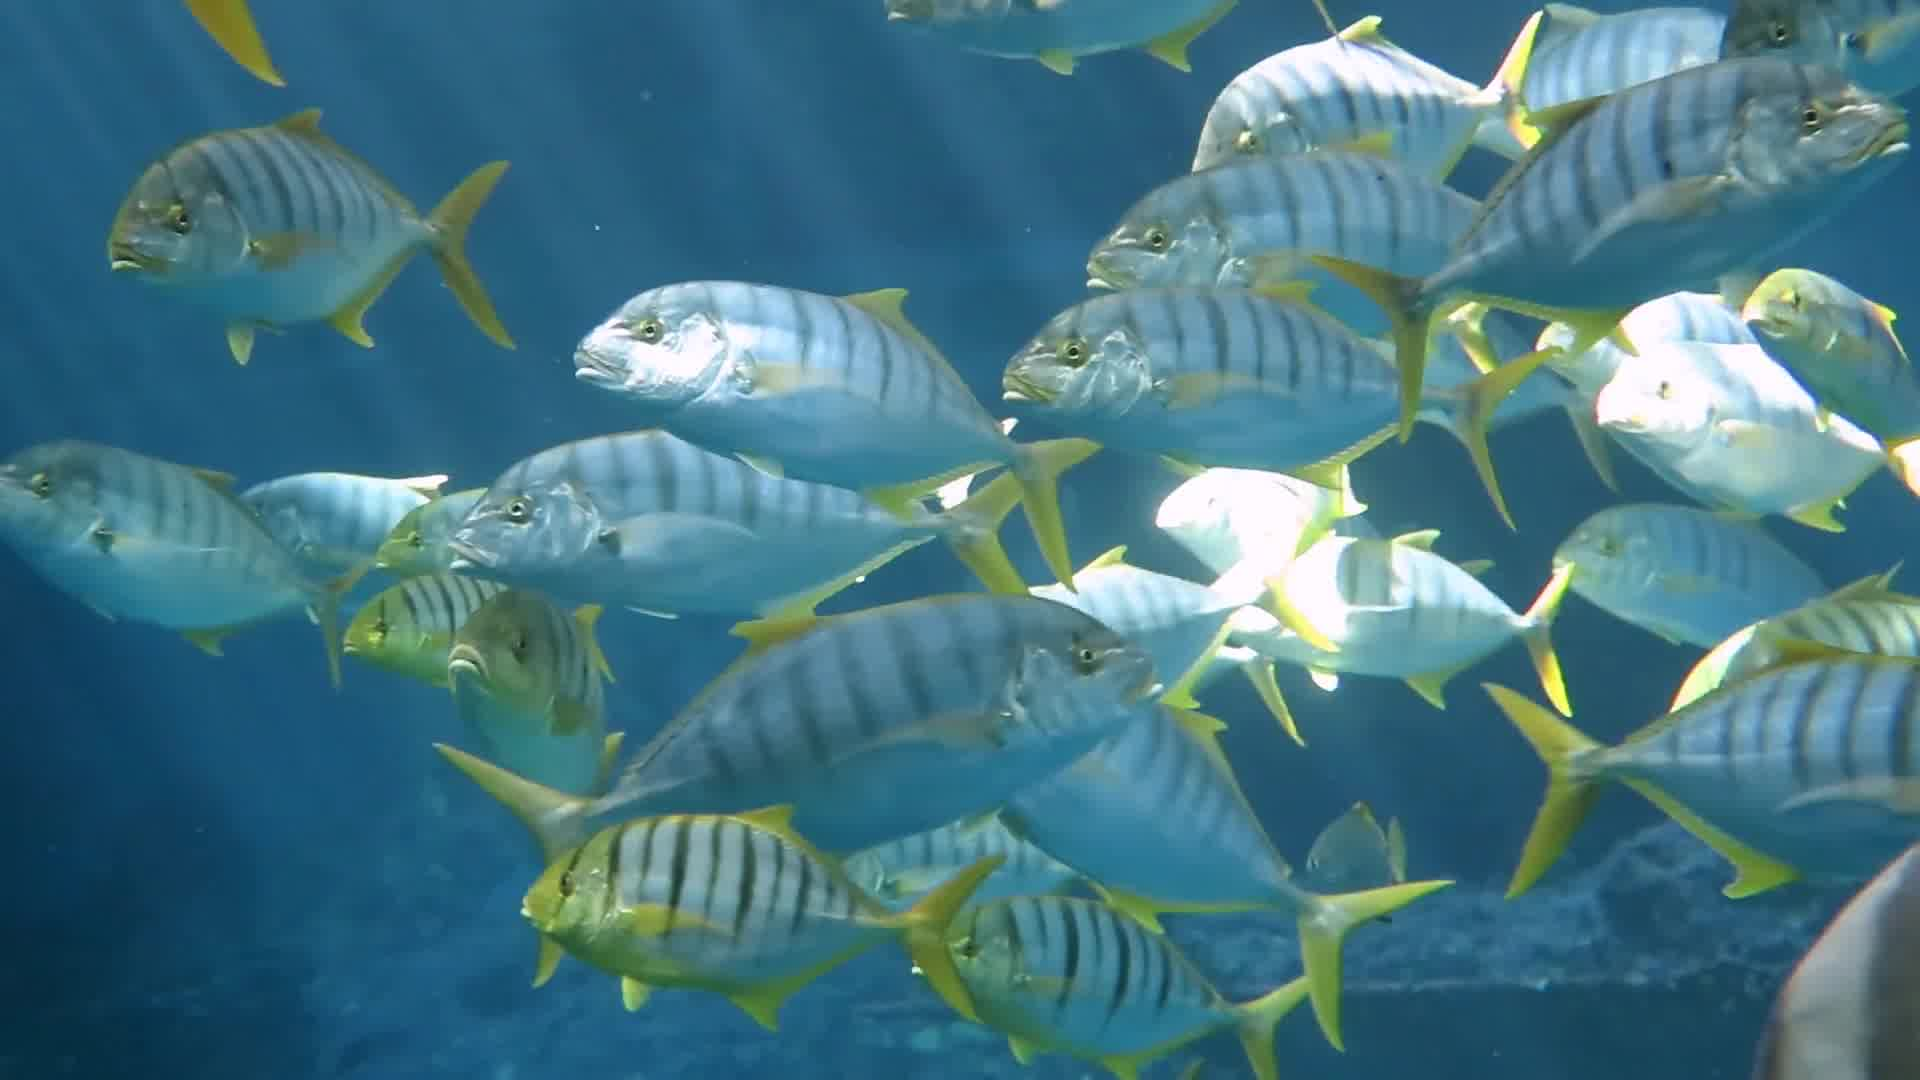Gnathanodon speciosus: (1327, 90, 1898, 320), (526, 625, 1182, 825), (567, 228, 1040, 502), (91, 95, 550, 351), (492, 789, 953, 1000), (462, 450, 1048, 607), (997, 305, 1505, 480), (1527, 477, 1894, 676), (891, 893, 1309, 1062), (15, 439, 309, 659), (1097, 152, 1461, 297), (1183, 44, 1553, 171), (1745, 284, 1920, 460), (450, 616, 613, 803), (357, 582, 471, 684)
